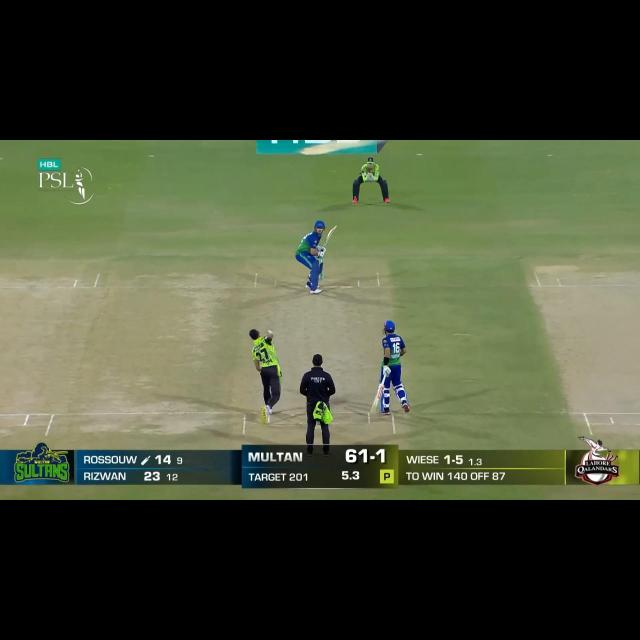bat: (371, 384, 384, 414), (321, 225, 337, 248)
toe: (370, 404, 378, 413), (331, 224, 337, 232)
